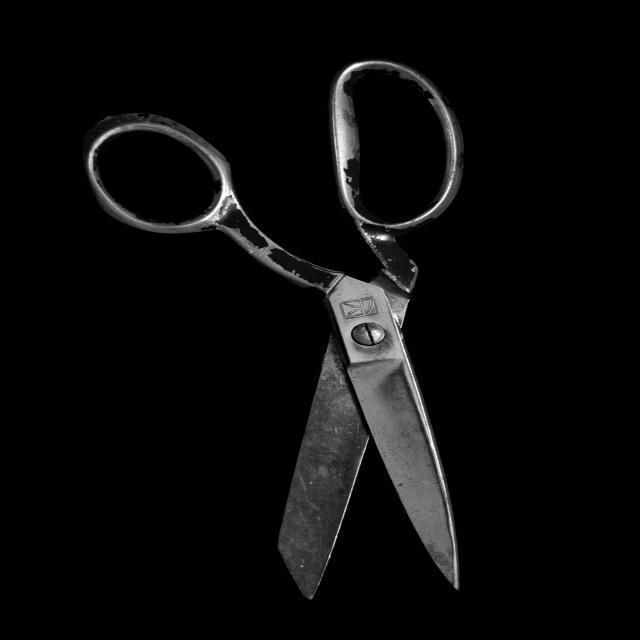scissor: (84, 62, 462, 600)
